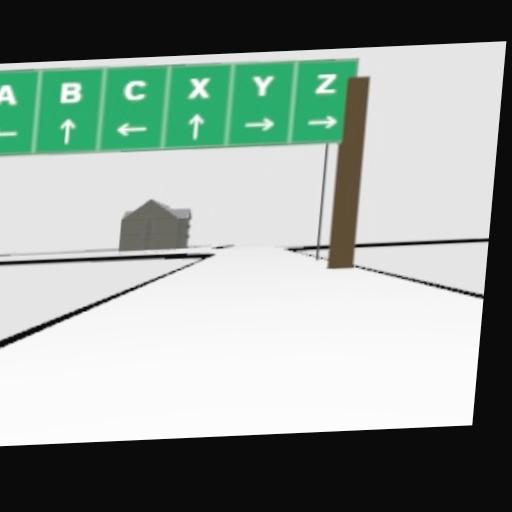A: (0, 81, 18, 106)
B: (58, 80, 82, 103)
C: (122, 77, 148, 100)
Left: (113, 121, 149, 136), (0, 125, 17, 141)
Right: (243, 116, 275, 132), (307, 114, 337, 128)
Straight: (185, 112, 205, 140), (57, 118, 75, 143)
X: (187, 76, 211, 99)
Y: (249, 74, 273, 96)
Z: (313, 73, 337, 94)
